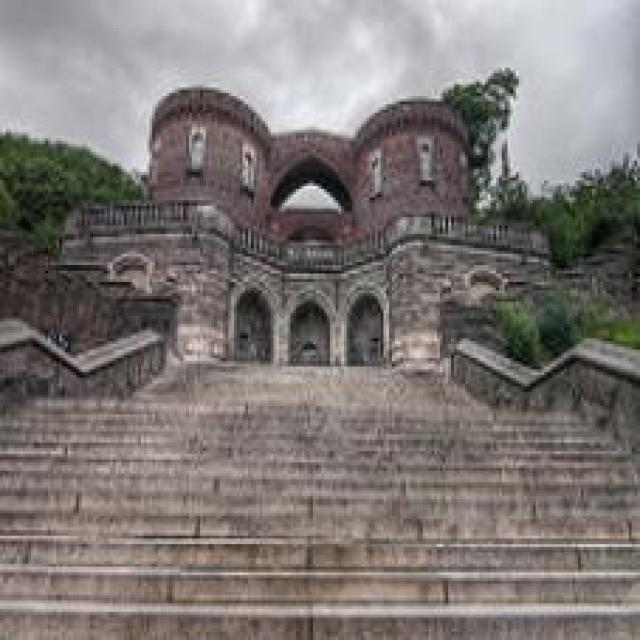stair: (77, 347, 567, 636)
